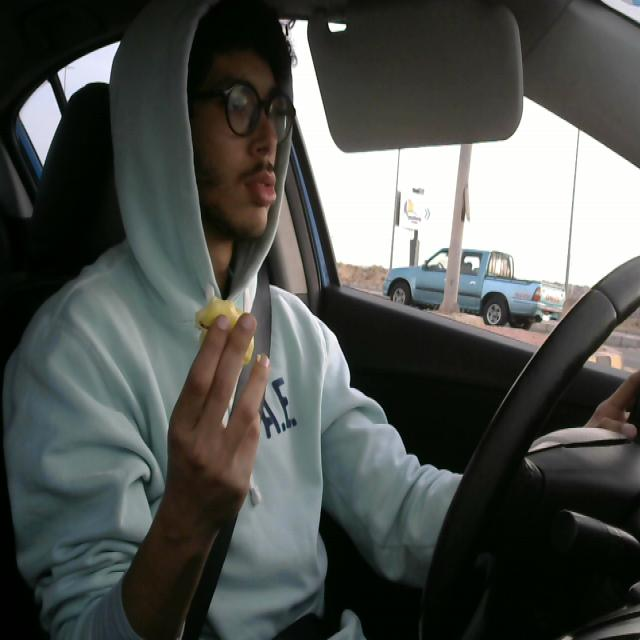eating: (188, 291, 269, 376)
